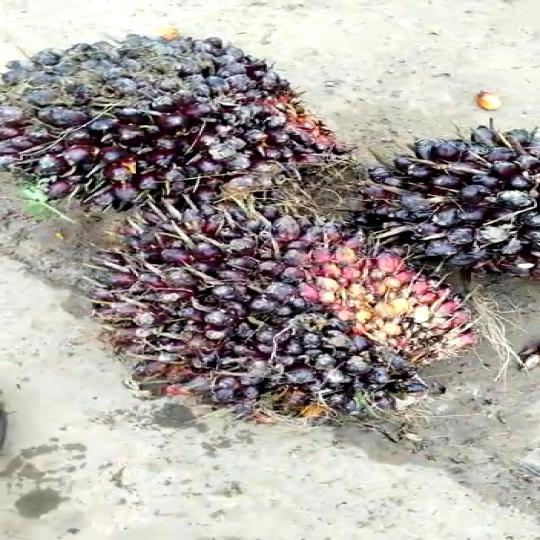kurang masak: (86, 201, 468, 422), (0, 26, 332, 222), (375, 116, 540, 277)
